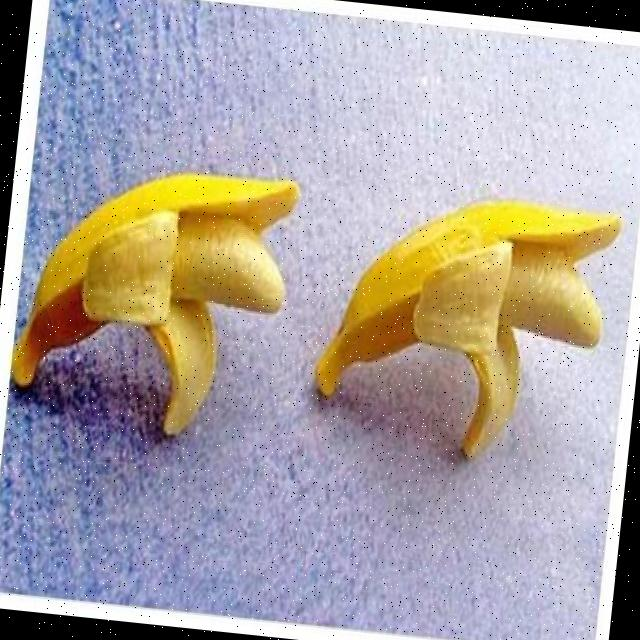banana-peel: (305, 177, 623, 473), (5, 150, 302, 448)
